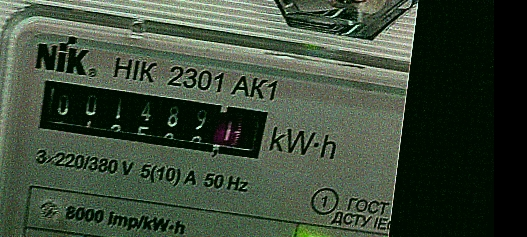0: (80, 89, 99, 116), (53, 90, 71, 116)
1: (109, 92, 126, 122), (219, 112, 235, 143)
4: (136, 96, 155, 124)
8: (162, 99, 182, 128)
9: (190, 105, 208, 132)
screen: (20, 66, 284, 174)
